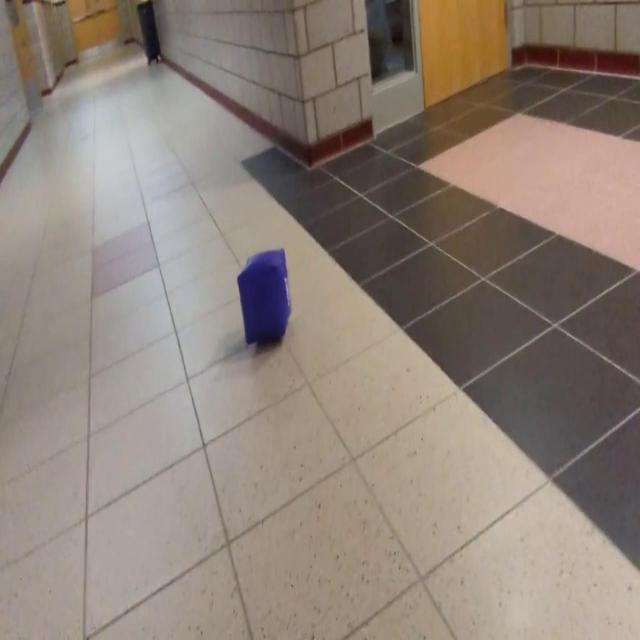frc_cube: (238, 250, 290, 346)
